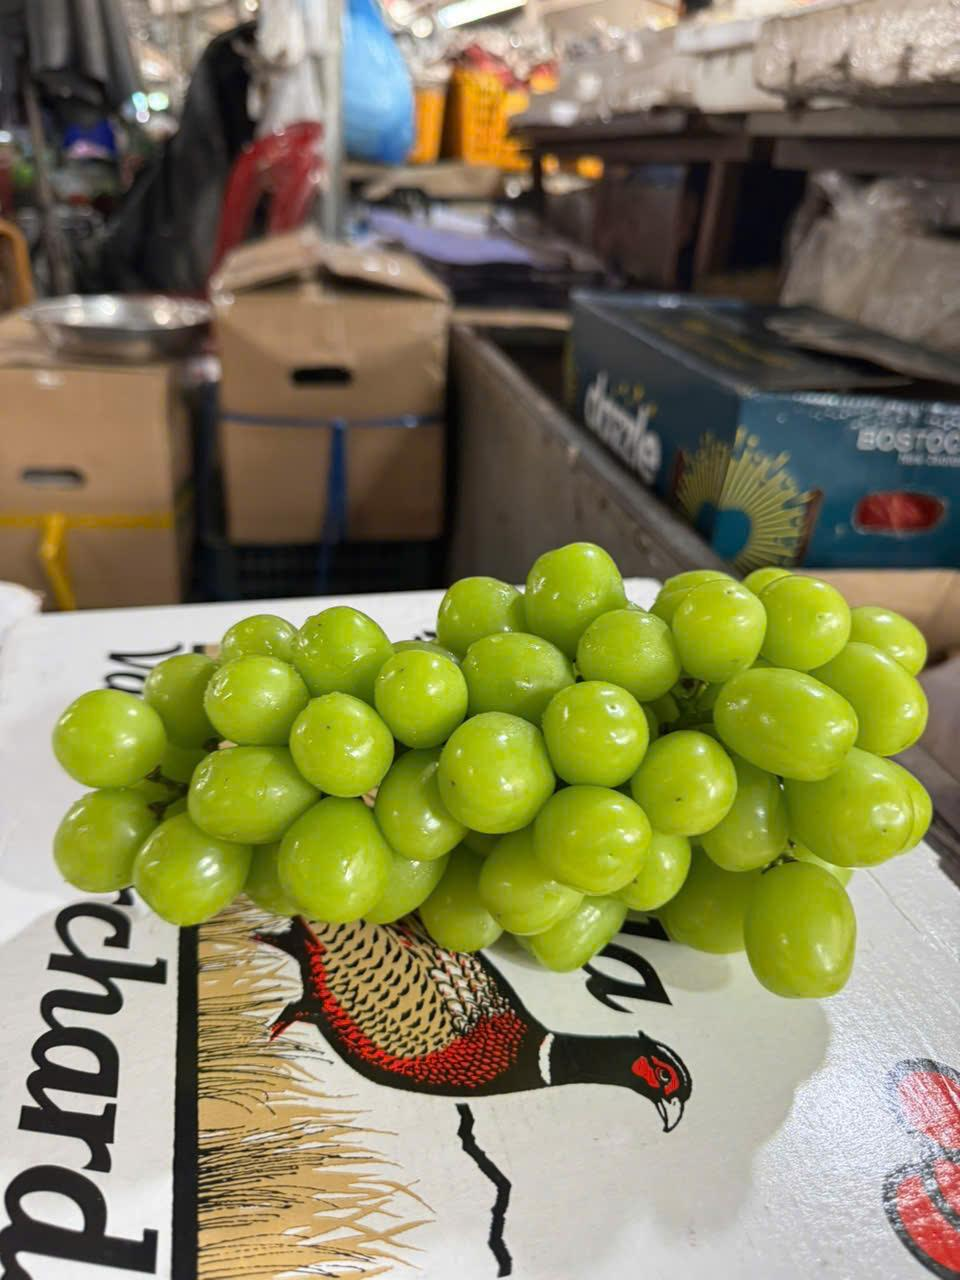grape: (36, 530, 952, 1020)
